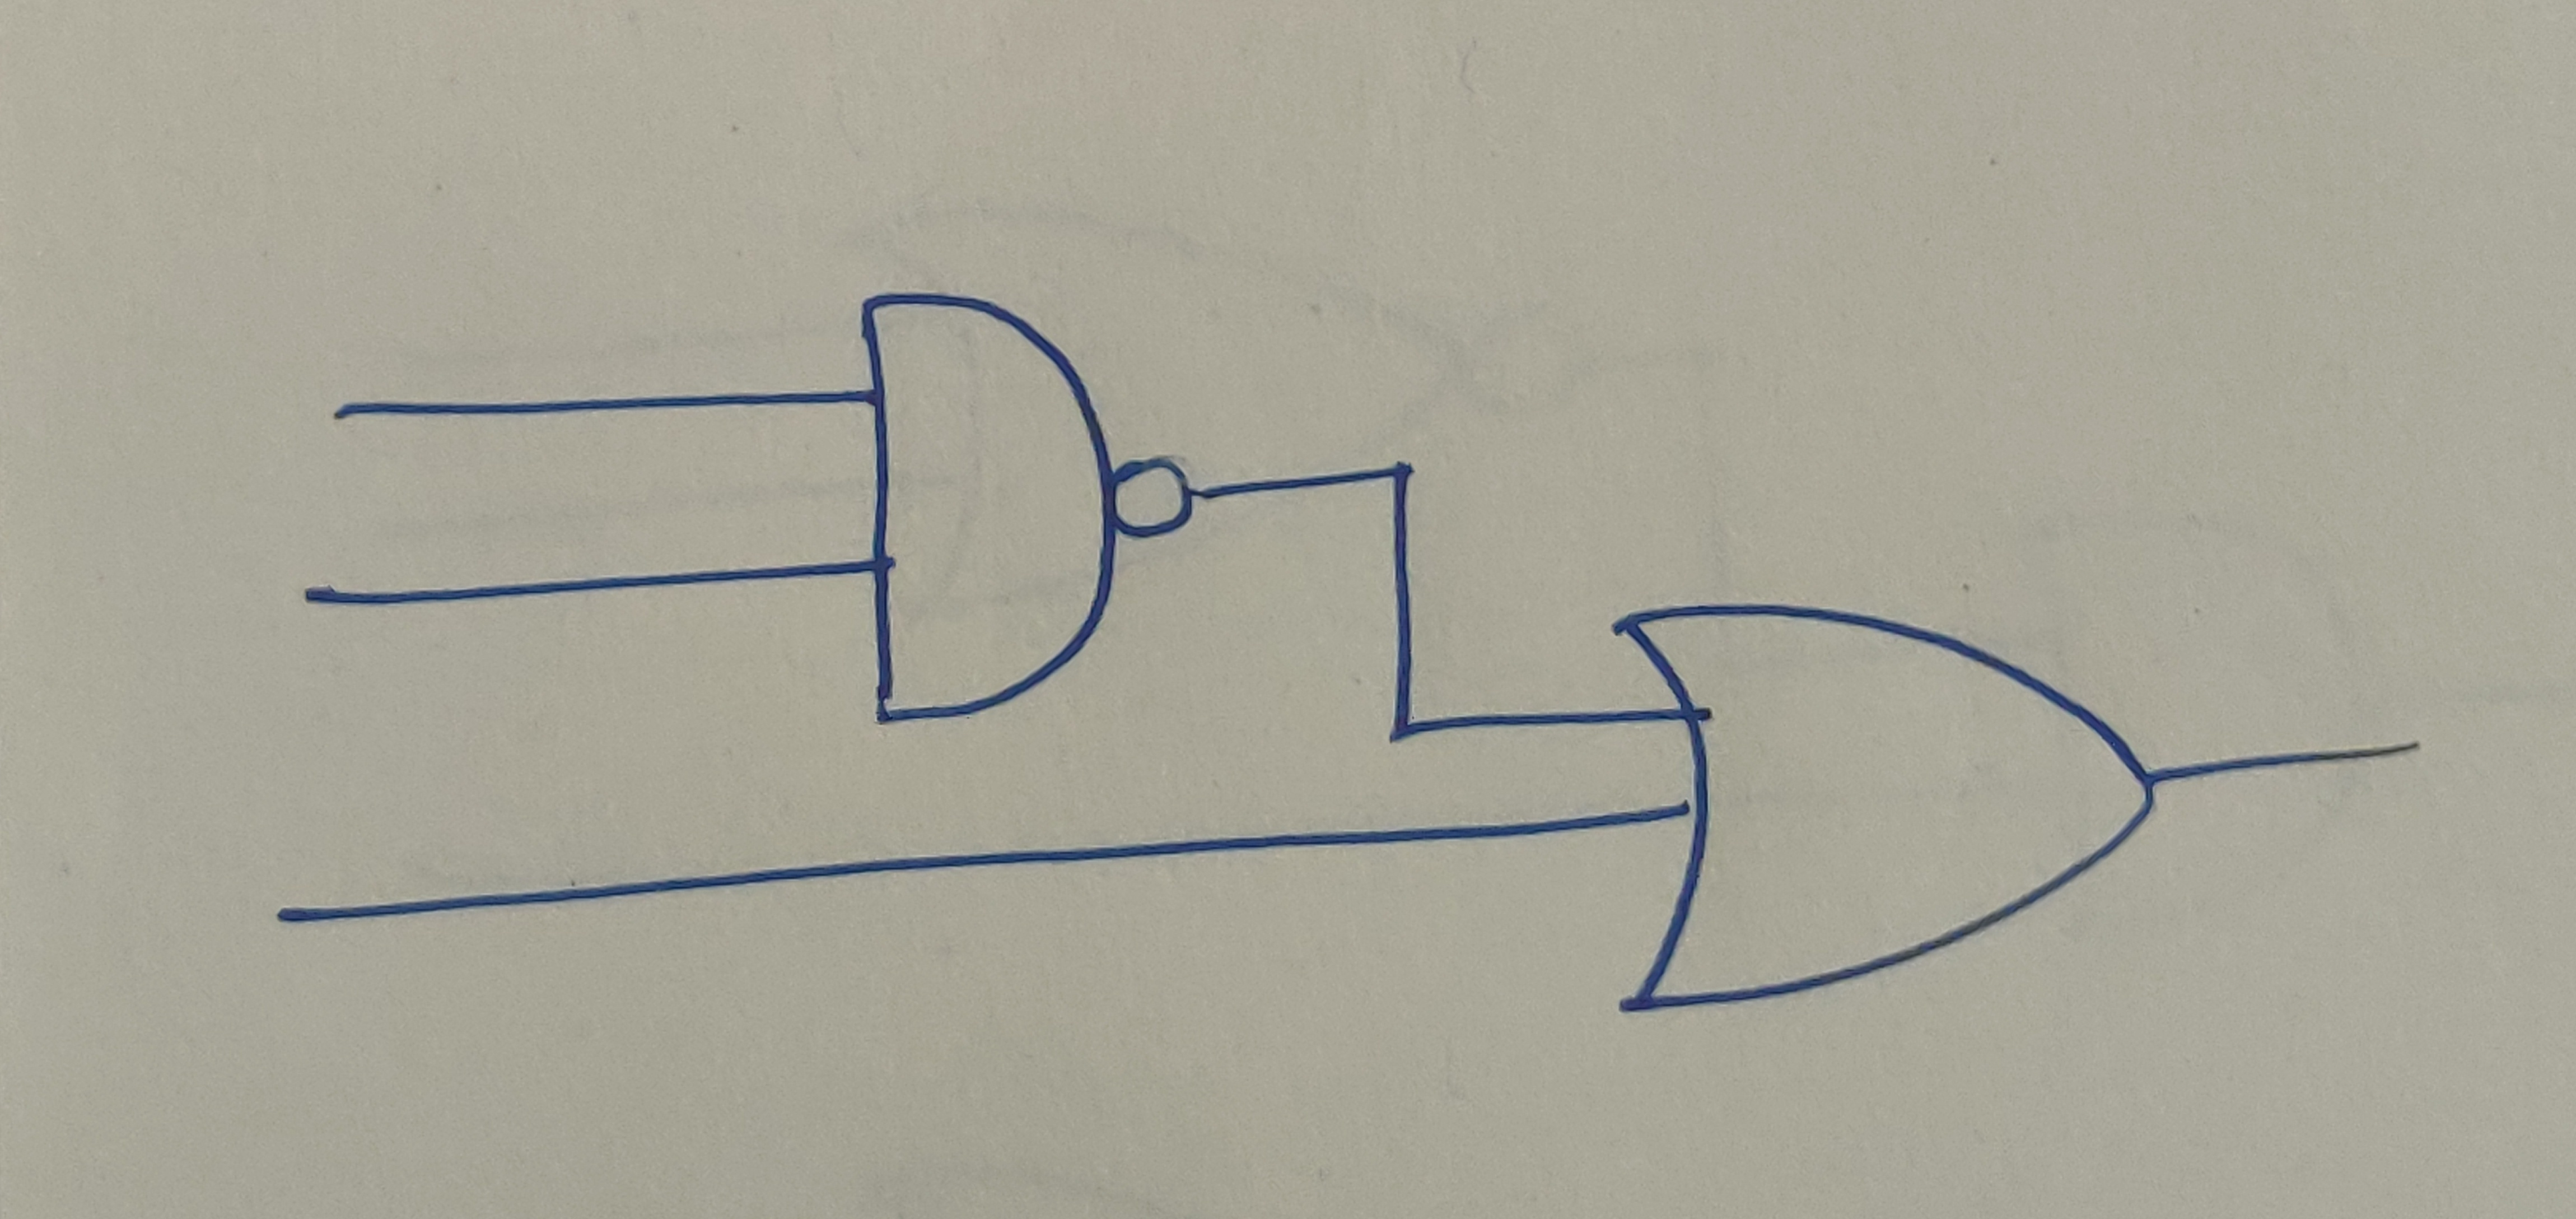and: (853, 289, 1114, 728)
not: (1107, 455, 1199, 544)
or: (1600, 600, 2160, 1019)
